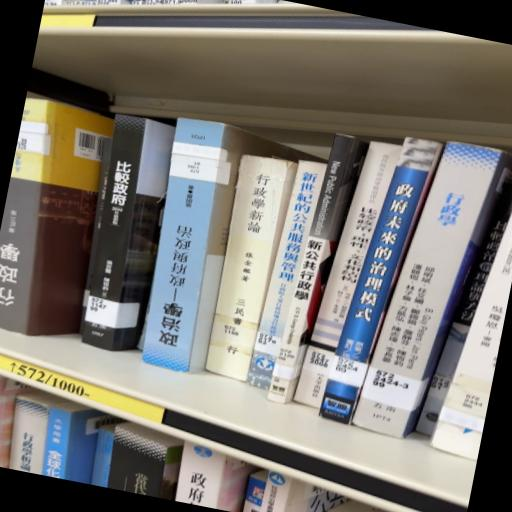reverse: (142, 118, 313, 373)
